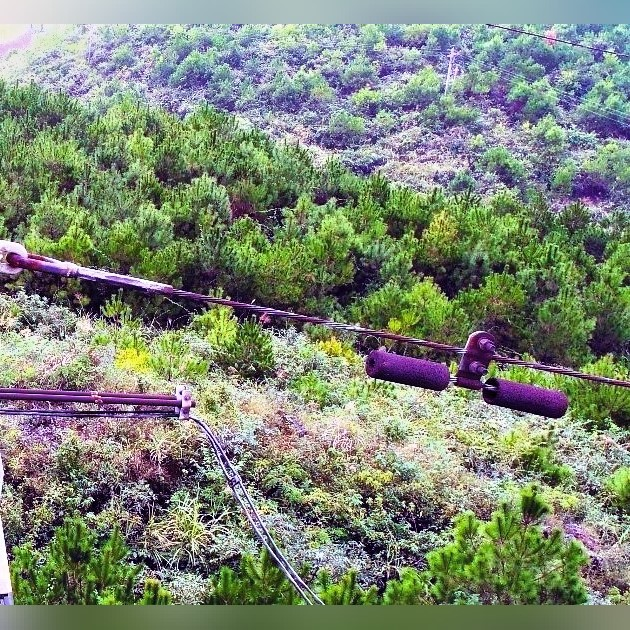Shockproof hammer: (361, 321, 574, 424)
